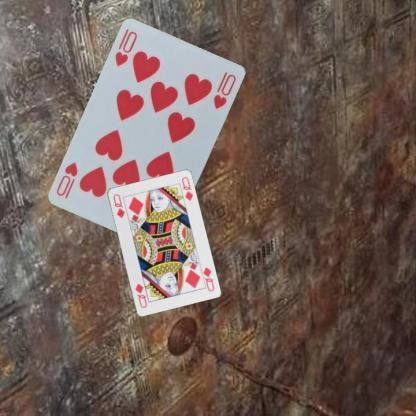10h: (112, 29, 139, 68)
Qd: (197, 264, 216, 293), (110, 191, 126, 219)
